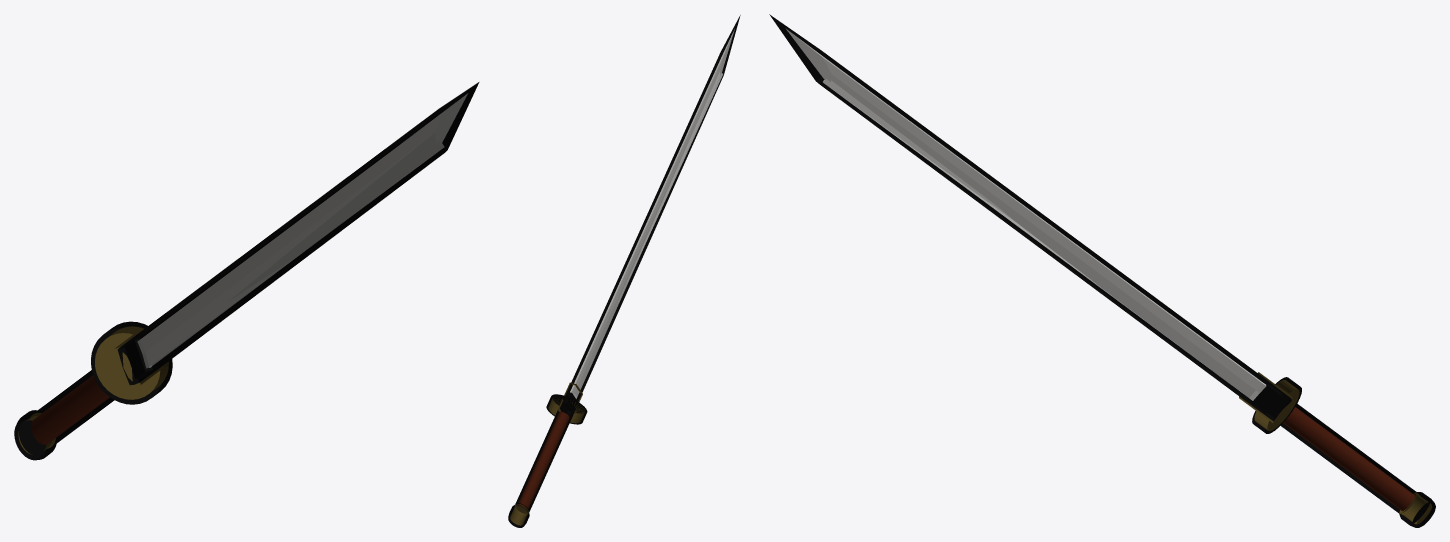
File: Katana.fbx
3 renders of one model, left to right at view 1: azimuth 30°, elevation 25°; view 2: azimuth 150°, elevation 25°; view 3: azimuth 270°, elevation 25°, orthographic. The views are drawn at different scales.
Parts seen in each view (by area): view 1: Katana; view 2: Katana; view 3: Katana.
Boxes of the visible parts, x1,y1,x2,y2 form: Katana: (14, 82, 479, 460); Katana: (508, 15, 740, 527); Katana: (769, 14, 1435, 527).
Size of the model in its own units: 8.99 by 87.91 by 104.
